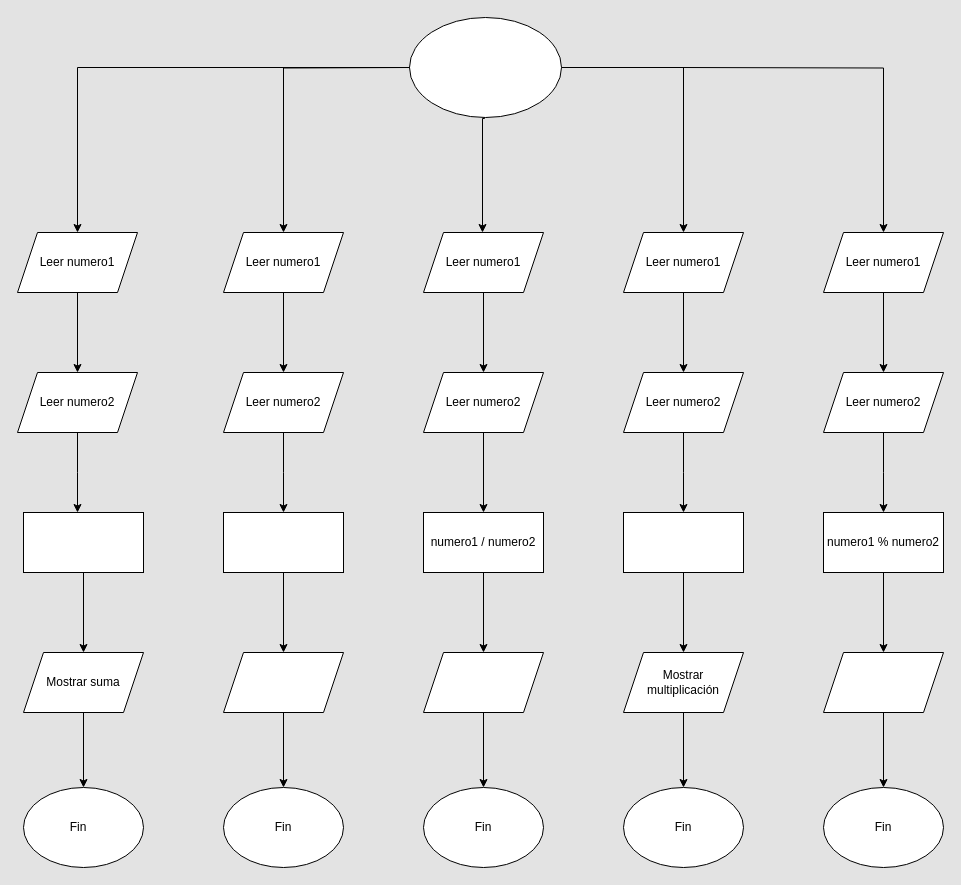
Some shapes in this 961 by 885 pixel diagram are drawn without their labels. The centre of each missing label's shape, as x and y in pixels:
Inicio: (485,67)
Mostrar division: (483,682)
Mostrar módulo: (883,682)
Mostrar resta: (283,682)
numero1 * numero2: (683,542)
numero1 + numero2: (83,542)
numero1 - numero2: (283,542)
